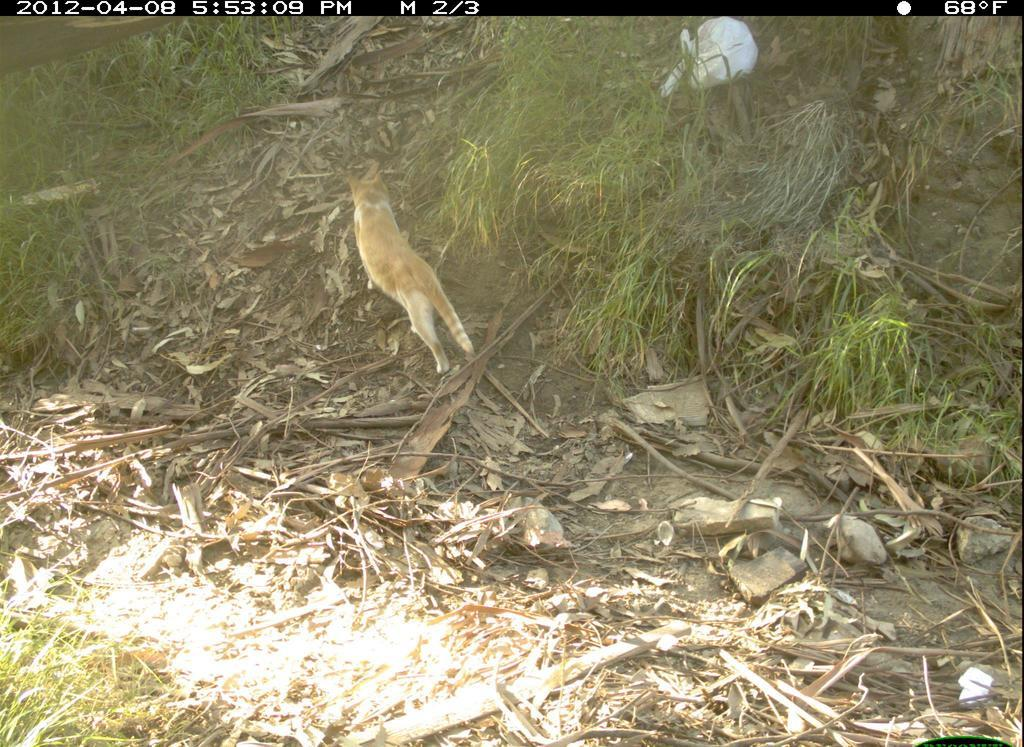cat: (341, 146, 489, 381)
